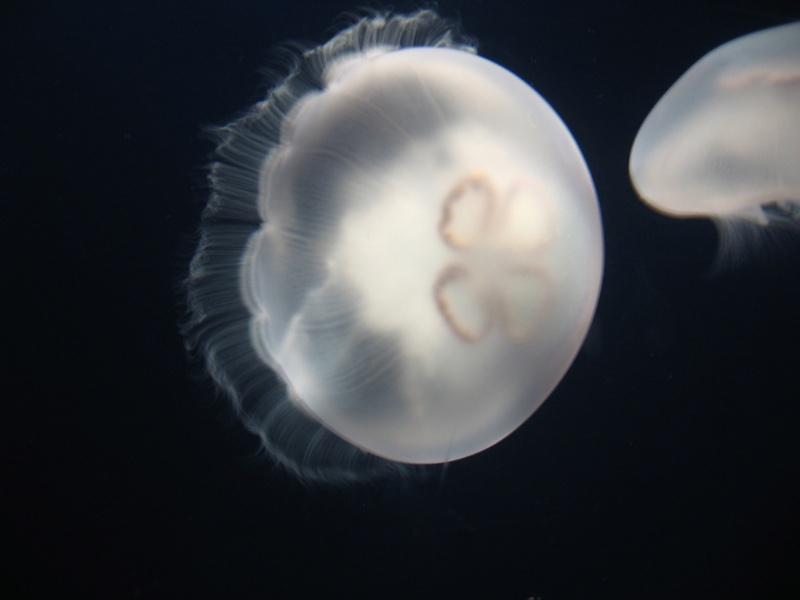Jellyfish: (202, 9, 635, 480), (627, 20, 798, 257)
